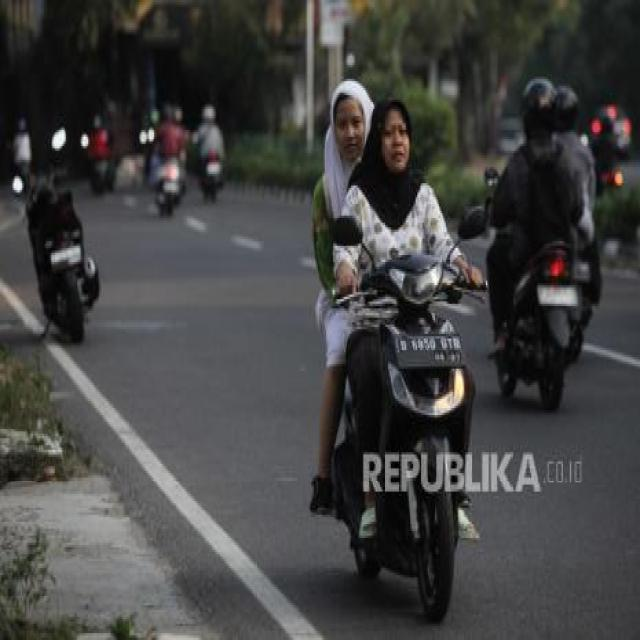Helmet: (522, 78, 555, 137), (555, 85, 578, 131), (202, 104, 215, 121), (163, 104, 174, 121), (92, 114, 102, 128), (174, 106, 182, 123), (17, 117, 26, 132)
Number Plate: (395, 334, 462, 367), (537, 285, 578, 306), (50, 245, 81, 269), (206, 162, 220, 176), (163, 181, 178, 193)
Rearview Mirror: (458, 206, 486, 239), (332, 216, 362, 245), (484, 166, 499, 187)
